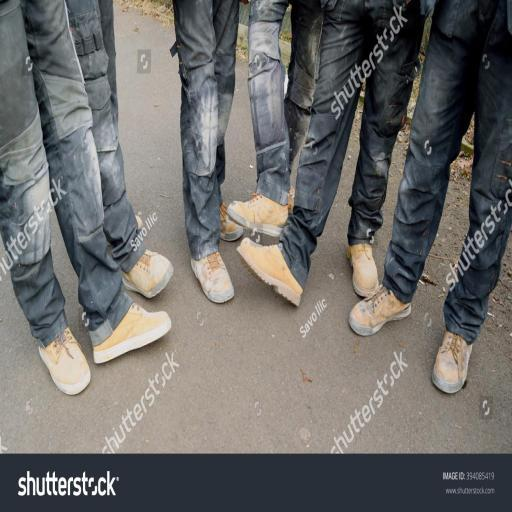safety_boots: (83, 313, 186, 370), (232, 236, 302, 310), (191, 253, 240, 322), (38, 338, 90, 401), (221, 191, 288, 236), (121, 241, 174, 297), (348, 293, 406, 338), (432, 337, 473, 400), (348, 240, 383, 298)
